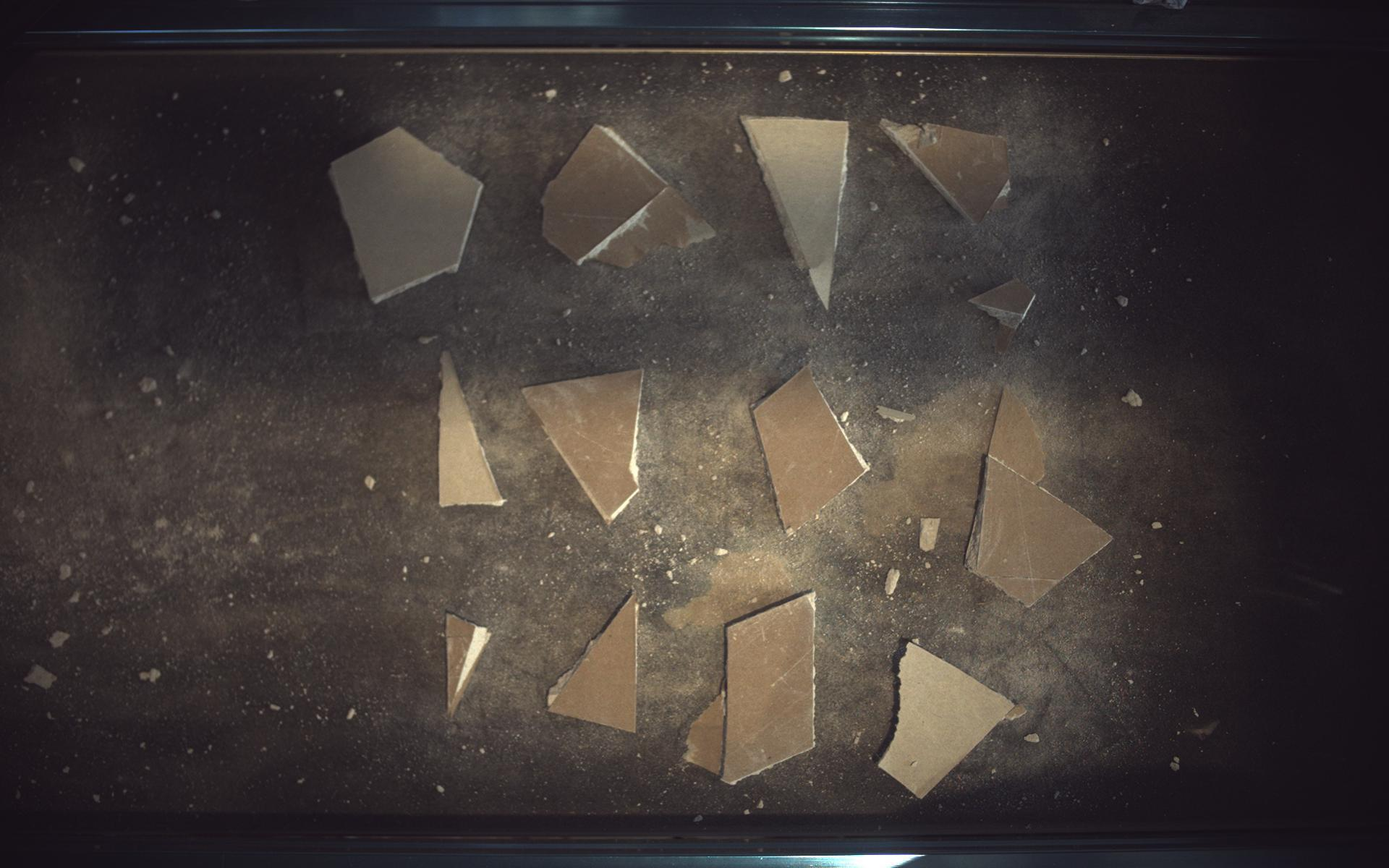gypsum_board: (968, 386, 1114, 608), (328, 126, 483, 303), (686, 592, 817, 786), (543, 124, 715, 266), (880, 644, 1014, 800), (742, 115, 850, 308), (755, 365, 870, 536), (523, 370, 644, 524), (883, 118, 1013, 222), (548, 592, 640, 733), (438, 351, 505, 507), (971, 278, 1038, 353), (447, 614, 491, 718)
